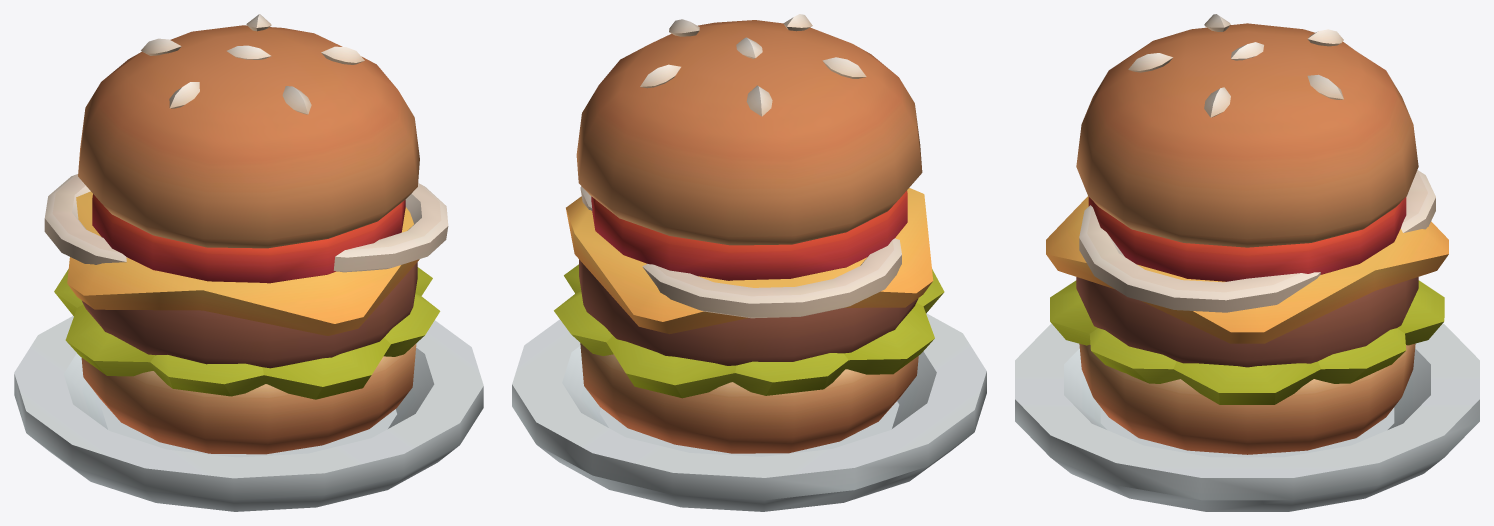
The model's file is food-burger.glb.
3 views of the same model, side by side, from view 1: azimuth 30°, elevation 25°; view 2: azimuth 150°, elevation 25°; view 3: azimuth 270°, elevation 25° (orthographic).
Parts seen in each view (by area): view 1: food_burger; view 2: food_burger; view 3: food_burger.
Part boxes in pixels (x1,y1,x2,y2): food_burger: [14, 14, 483, 511]; food_burger: [512, 14, 986, 511]; food_burger: [1015, 14, 1479, 511].
Size of the model in its own units: 0.95 by 0.8572 by 0.95.
Materials: 1 (1 with a texture image).
